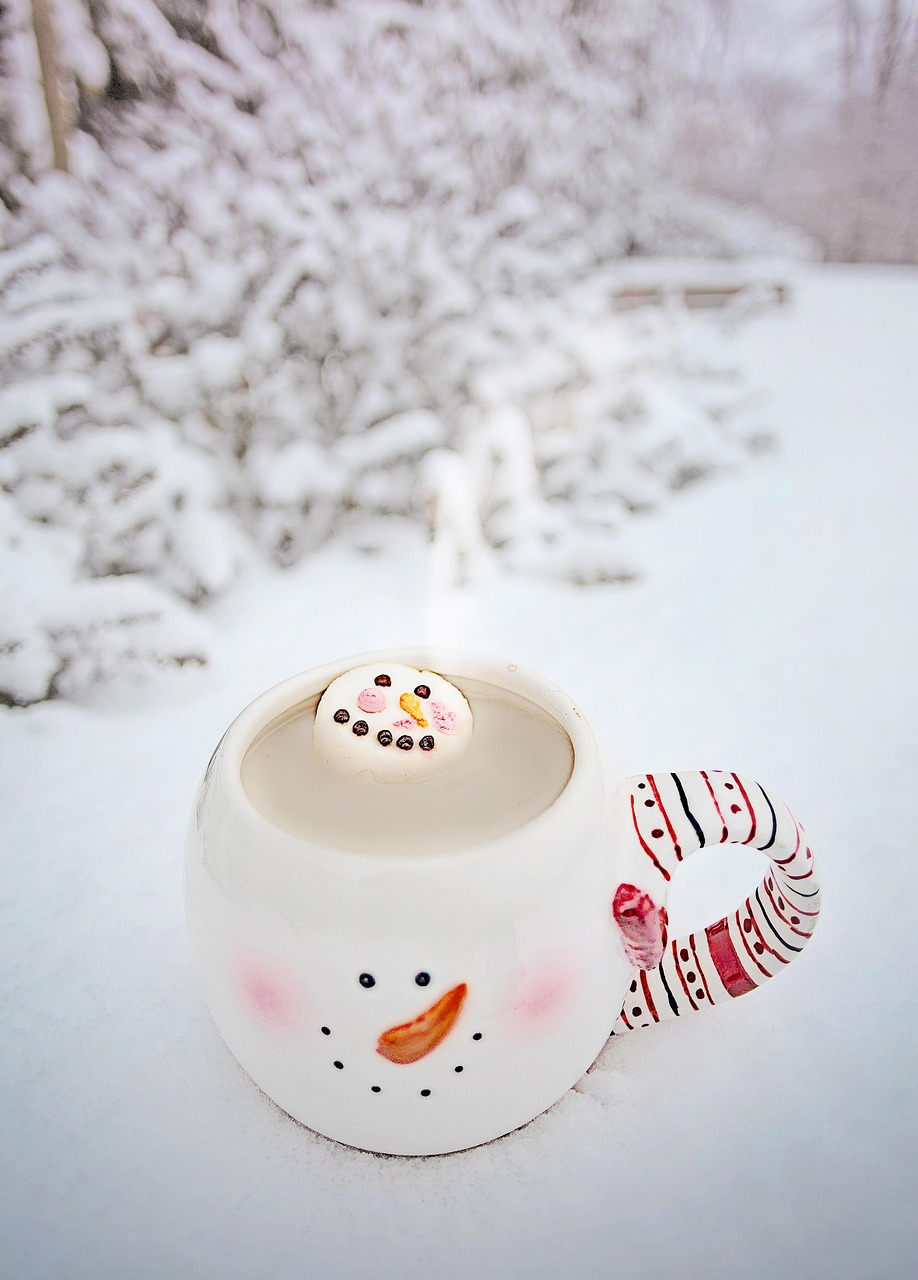mug: (128, 661, 910, 1239)
